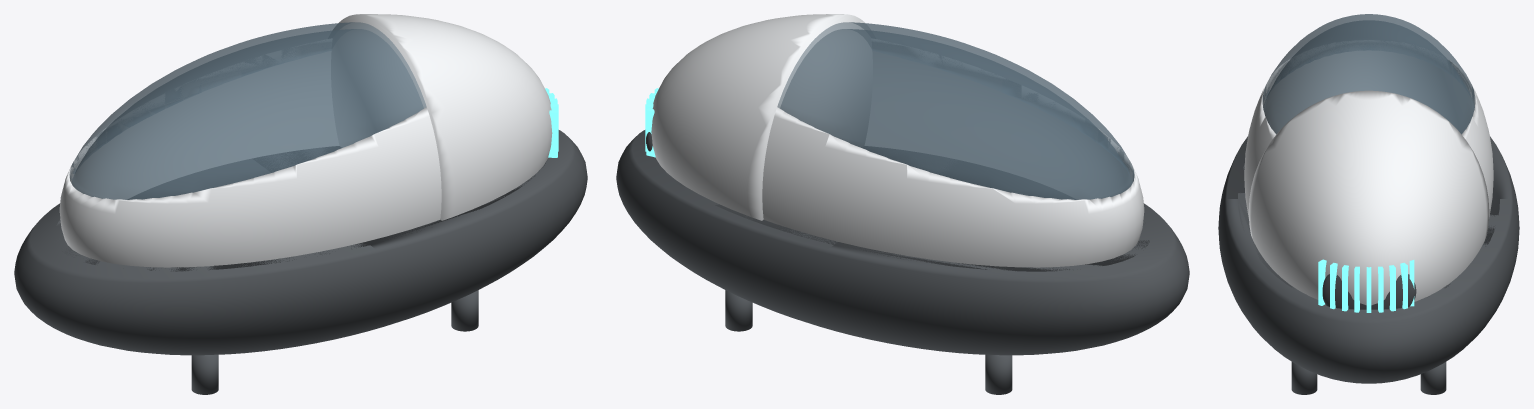
The model's file is SleepingPod.fbx.
The picture shows the model from 3 angles, left to right: view 1: azimuth 30°, elevation 25°; view 2: azimuth 150°, elevation 25°; view 3: azimuth 270°, elevation 25°; orthographic projection. The views are drawn at different scales.
Visible parts, largest first — view 1: Pod_Base, Pod_Shell, Pod_Canopy, Pod_Hood, Pod_Feet, Pod_Vent; view 2: Pod_Base, Pod_Shell, Pod_Canopy, Pod_Hood, Pod_Feet; view 3: Pod_Hood, Pod_Base, Pod_Canopy, Pod_Shell, Pod_Vent, Pod_Feet, Pod_VentBack.
Part boxes in pixels (x1,y1,x2,y2): Pod_Base: (14,130,587,355); Pod_Shell: (59,51,441,267); Pod_Canopy: (69,22,426,199); Pod_Hood: (331,14,552,220); Pod_Feet: (191,290,478,394); Pod_Vent: (545,88,558,157); Pod_Base: (616,130,1189,355); Pod_Shell: (762,51,1144,267); Pod_Canopy: (777,22,1134,199); Pod_Hood: (651,14,872,220); Pod_Feet: (725,290,1012,394); Pod_Hood: (1248,90,1489,305); Pod_Base: (1218,136,1519,383); Pod_Canopy: (1262,14,1475,134); Pod_Shell: (1244,50,1493,218); Pod_Vent: (1318,259,1414,312); Pod_Feet: (1291,362,1446,394); Pod_VentBack: (1322,274,1416,309).
Bounding box in the file's own units: 280 × 141 × 140.
